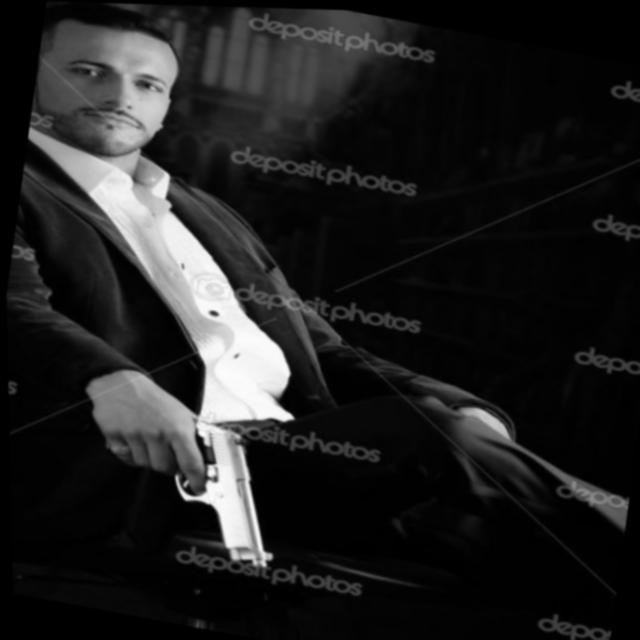weapon: (156, 408, 291, 570)
